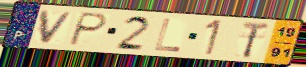1: (203, 19, 223, 57)
2: (112, 15, 153, 52)
L: (152, 17, 182, 54)
P: (66, 11, 110, 47)
T: (240, 21, 272, 59)
V: (39, 10, 77, 45)
